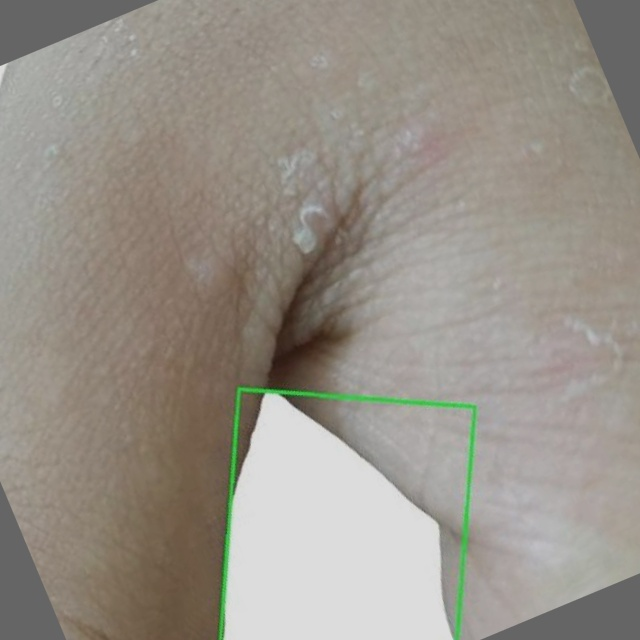Scabies: (219, 389, 474, 639)
